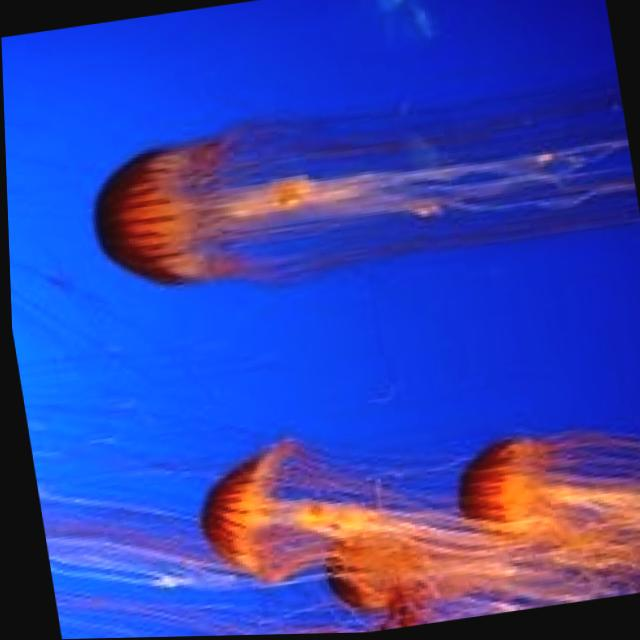Box-jellyfish: (73, 65, 640, 308)
